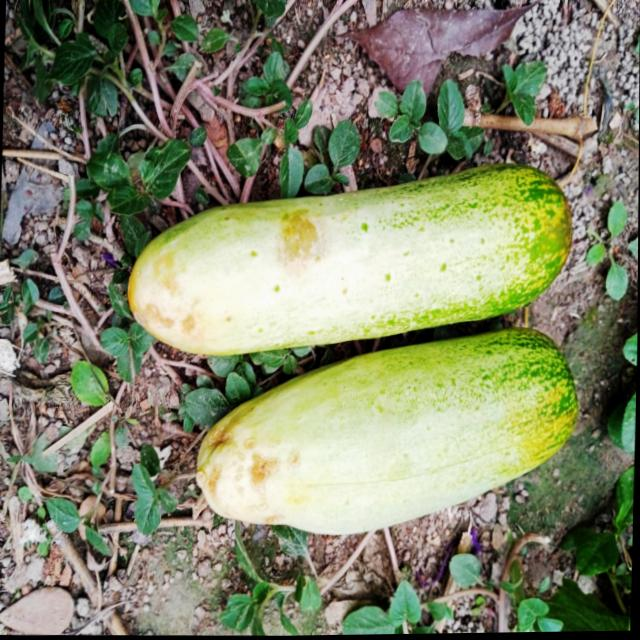Belly-Rot: (204, 400, 306, 532), (136, 244, 202, 355), (272, 208, 325, 275)
